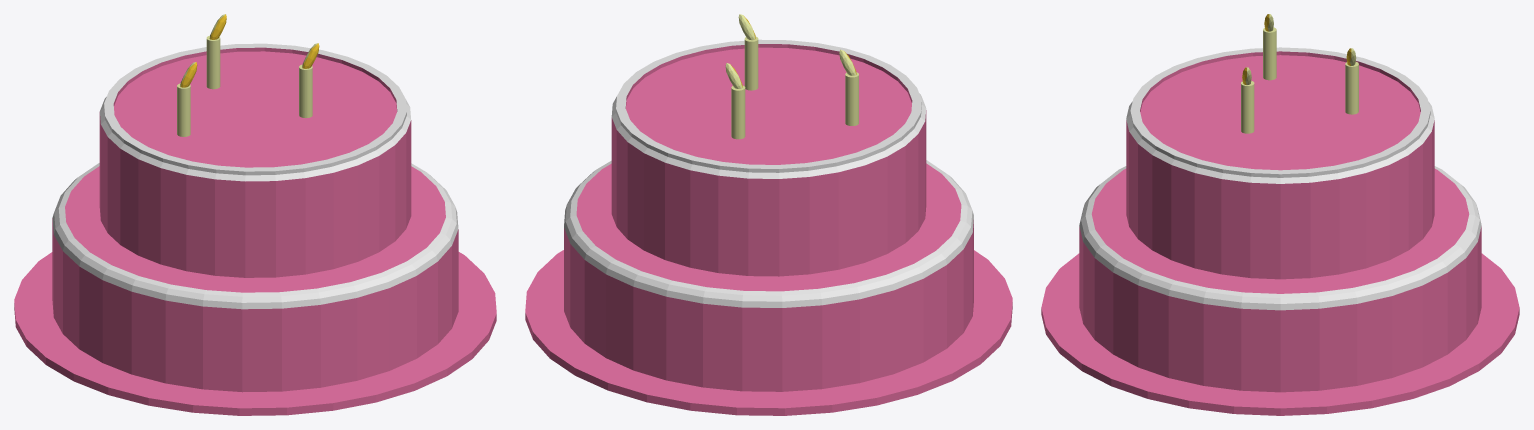
The model's file is Pastel.fbx.
The picture shows the model from 3 angles, left to right: view 1: azimuth 30°, elevation 25°; view 2: azimuth 150°, elevation 25°; view 3: azimuth 270°, elevation 25°; orthographic projection. The views are drawn at different scales.
Visible parts, largest first — view 1: Pastel; view 2: Pastel; view 3: Pastel.
Part boxes in pixels (bbox=[...]): Pastel: bbox=[14, 14, 496, 415]; Pastel: bbox=[525, 14, 1012, 415]; Pastel: bbox=[1041, 14, 1519, 415].
Bounding box in the file's own units: 9694 × 6022 × 9694.
